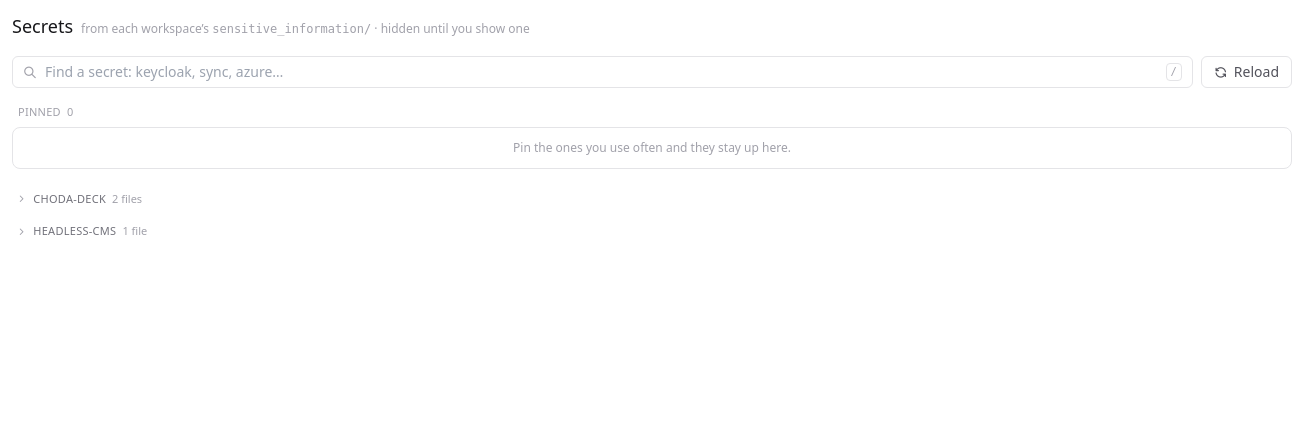
Test case: SecretsView › copies by name and reports the clipboard clear time
The width and height of the screenshot is (1304, 427).
Click the button "choda-deck 2 files": (70, 198) [12,184,1292,213]
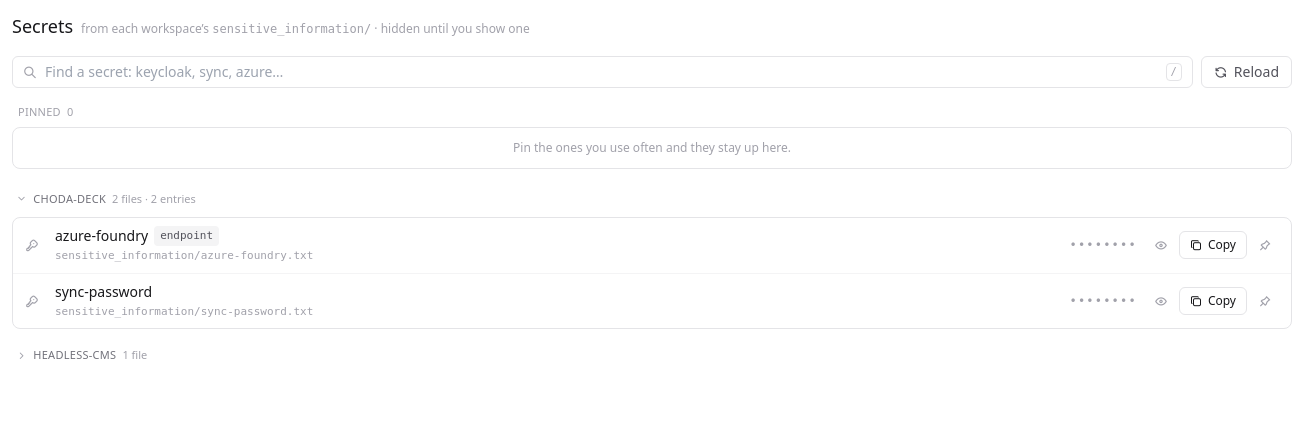
Click the button with aria-label "Copy azure-foundry endpoint": (1213, 245) [1179,231,1247,259]
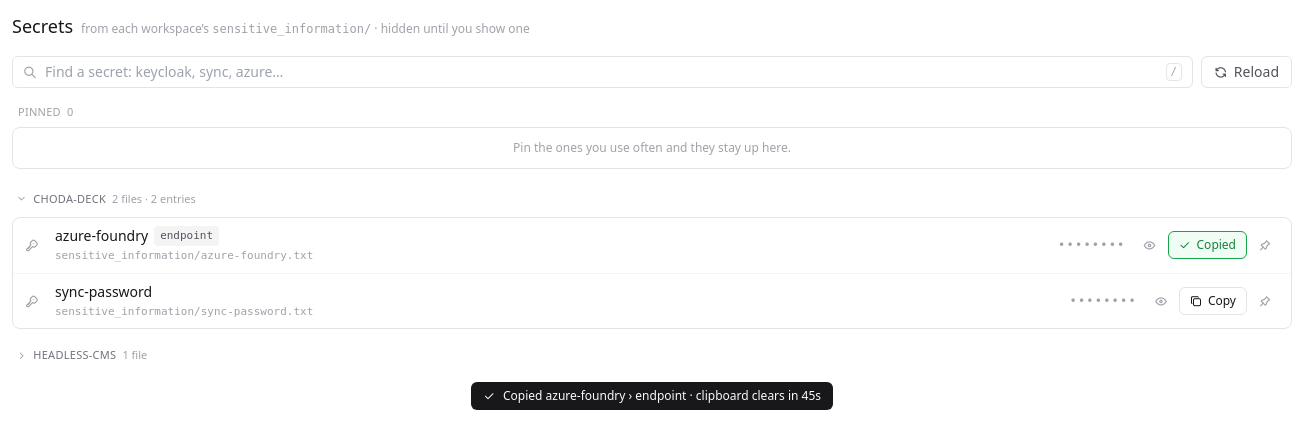
Check: the text "Copied azure-foundry › endpoint · clipboard clears in 45s" is shown, box [471,382,833,410]
